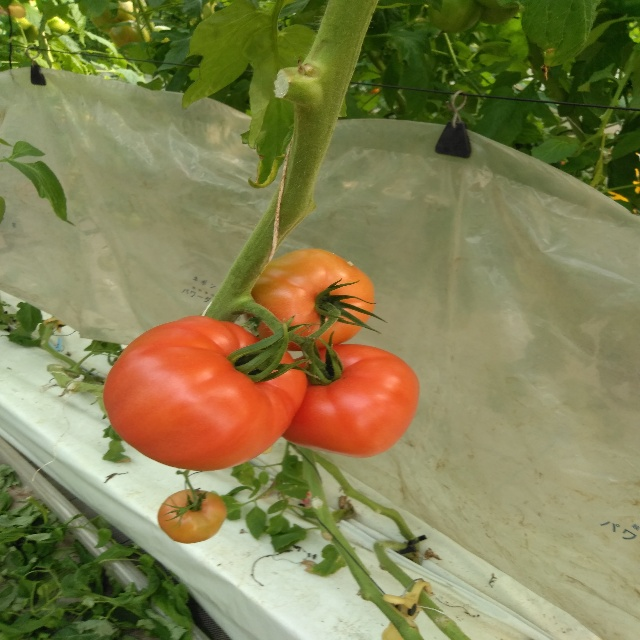b_fully_ripened: (103, 316, 309, 472), (282, 344, 422, 458)
b_half_ripened: (243, 249, 375, 352), (157, 489, 227, 544)
